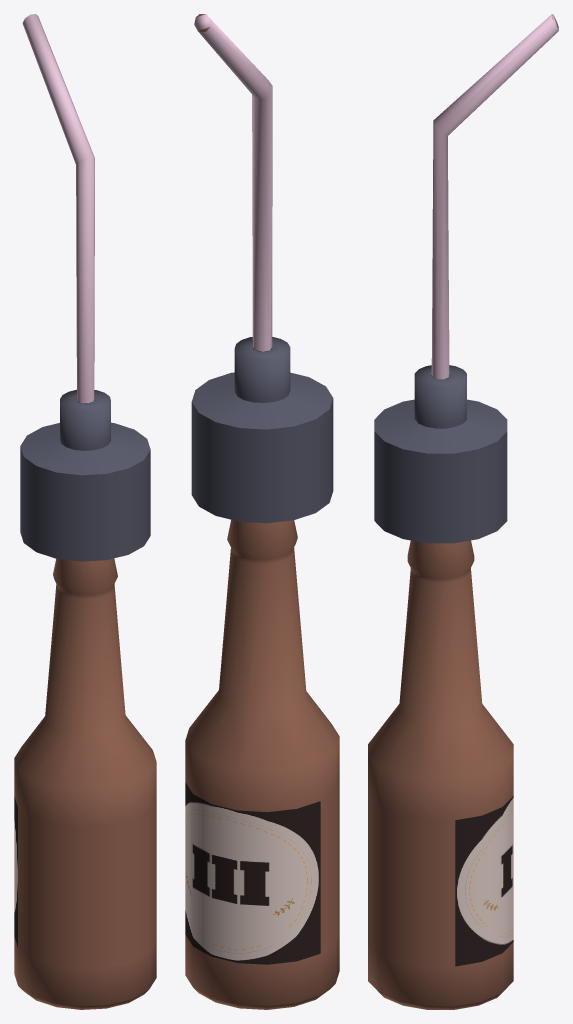
The model's file is bottle.fbx.
The picture shows the model from 3 angles, left to right: view 1: azimuth 30°, elevation 25°; view 2: azimuth 150°, elevation 25°; view 3: azimuth 270°, elevation 25°; orthographic projection. The views are drawn at different scales.
Visible parts, largest first — view 1: bottle; view 2: bottle; view 3: bottle.
Boxes of the visible parts, bbox=[...] form: bottle: bbox=[14, 14, 156, 1009]; bottle: bbox=[185, 14, 339, 1009]; bottle: bbox=[368, 14, 558, 1009].
Size of the model in its own units: 6.44 by 47.22 by 8.44.
4 materials, 1 textured.
